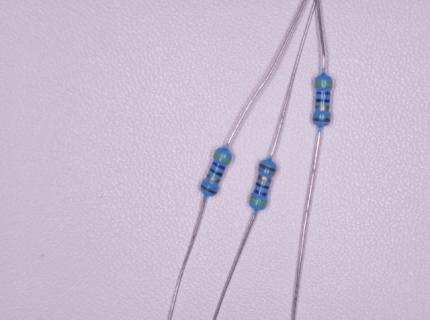Gold band: (206, 173, 220, 184), (258, 175, 271, 183), (315, 105, 330, 109)
Violet band: (212, 161, 226, 171), (253, 189, 268, 197), (316, 91, 330, 95)
Yellow band: (214, 152, 230, 163), (250, 197, 267, 206), (315, 82, 333, 86)
